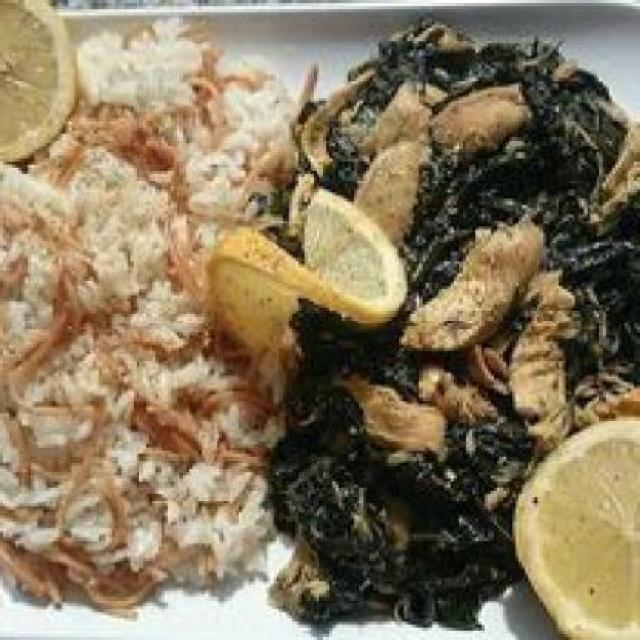fried rice: (3, 19, 292, 606)
